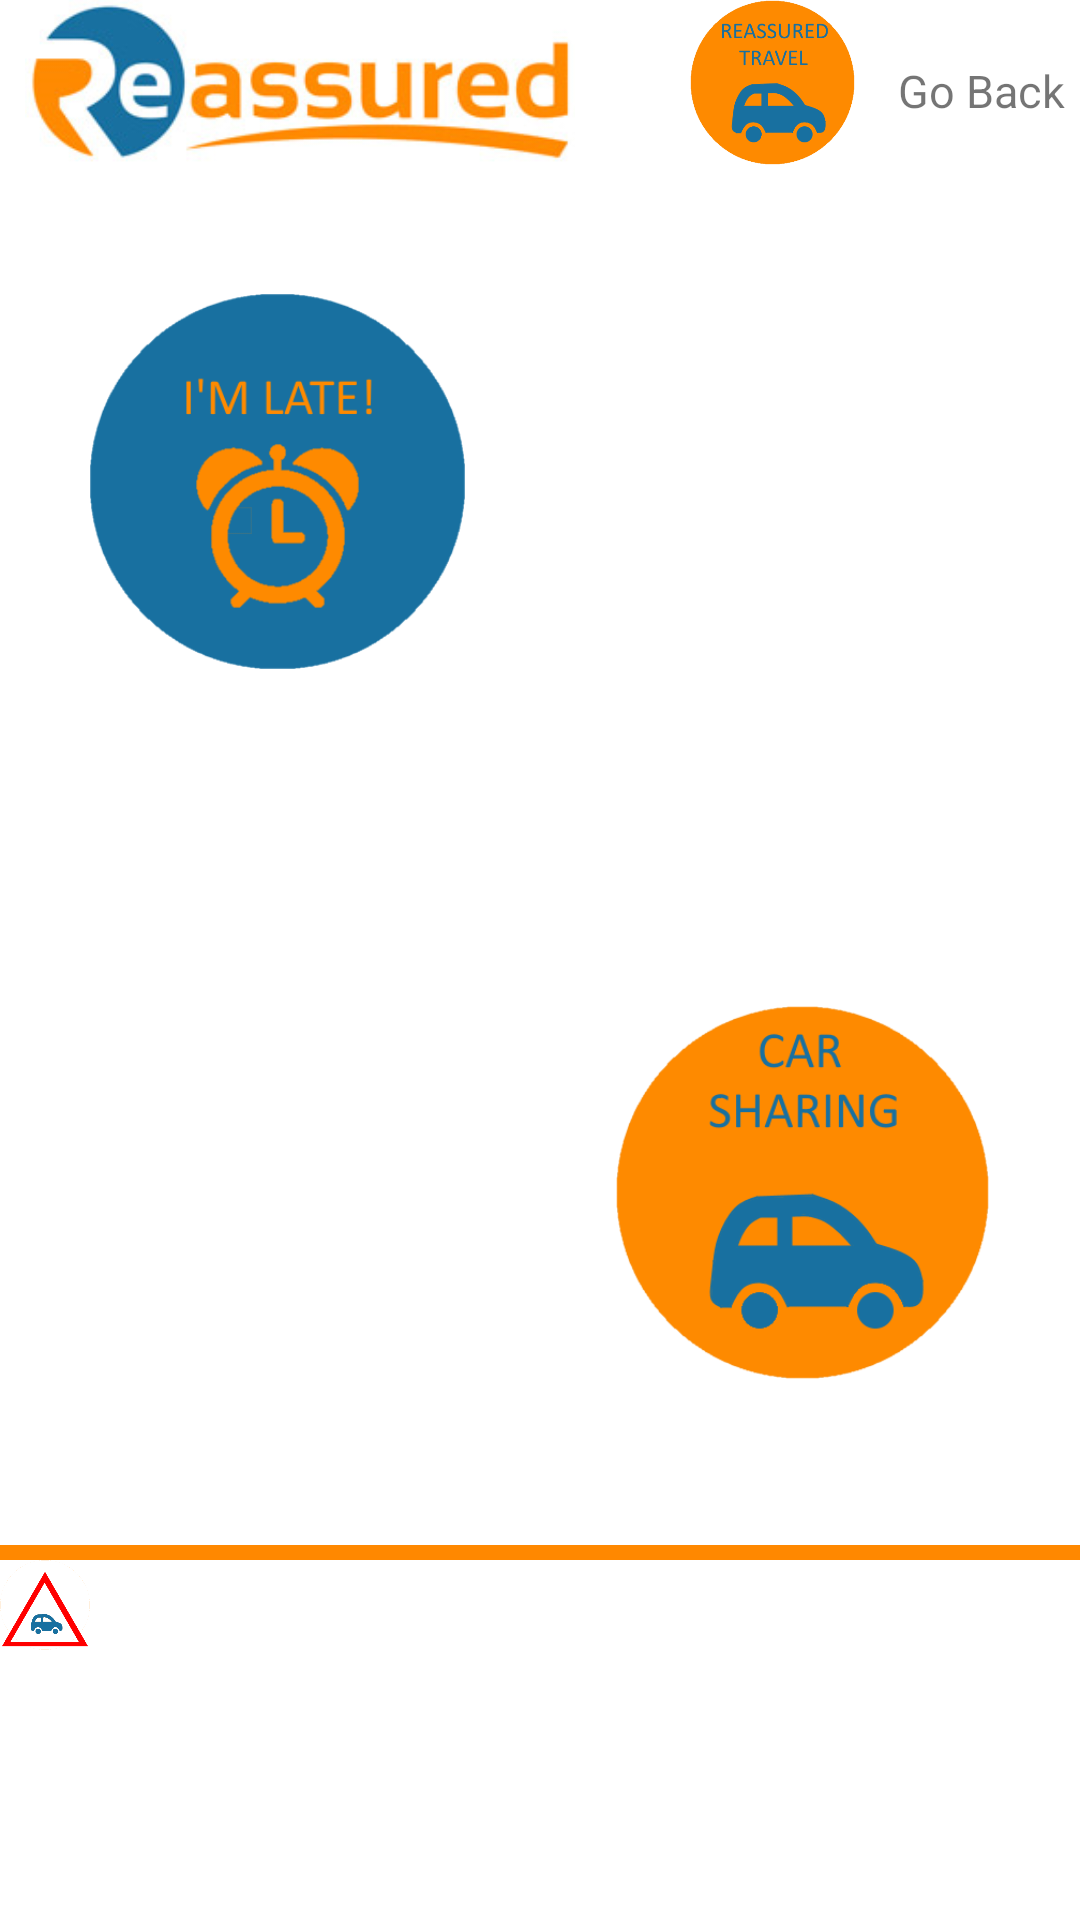

Icon click points for this 1080x1920 phone screenshot, format [x,y]:
traffic warning triangle: [45,1608]
